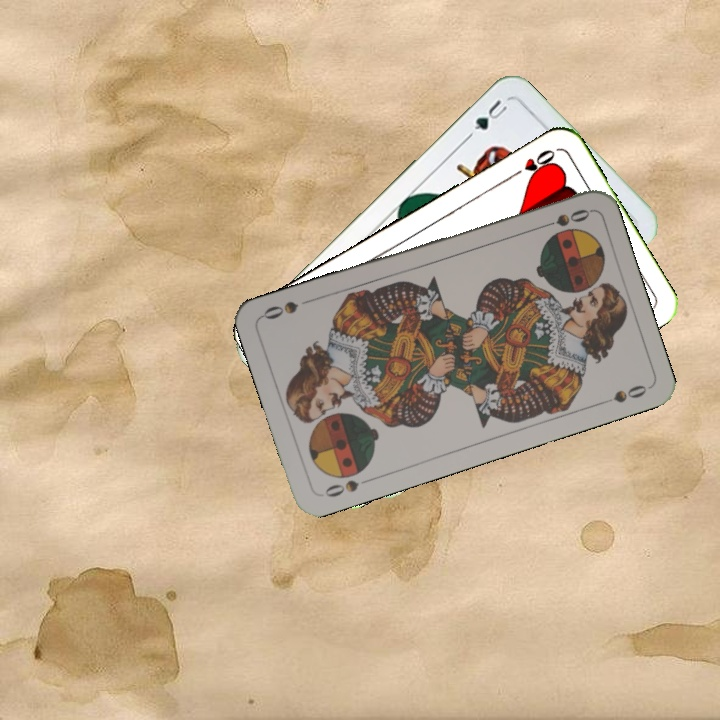GU: (463, 95, 510, 141)
HO: (505, 145, 558, 181)
SO: (535, 205, 593, 232), (320, 474, 375, 500)
